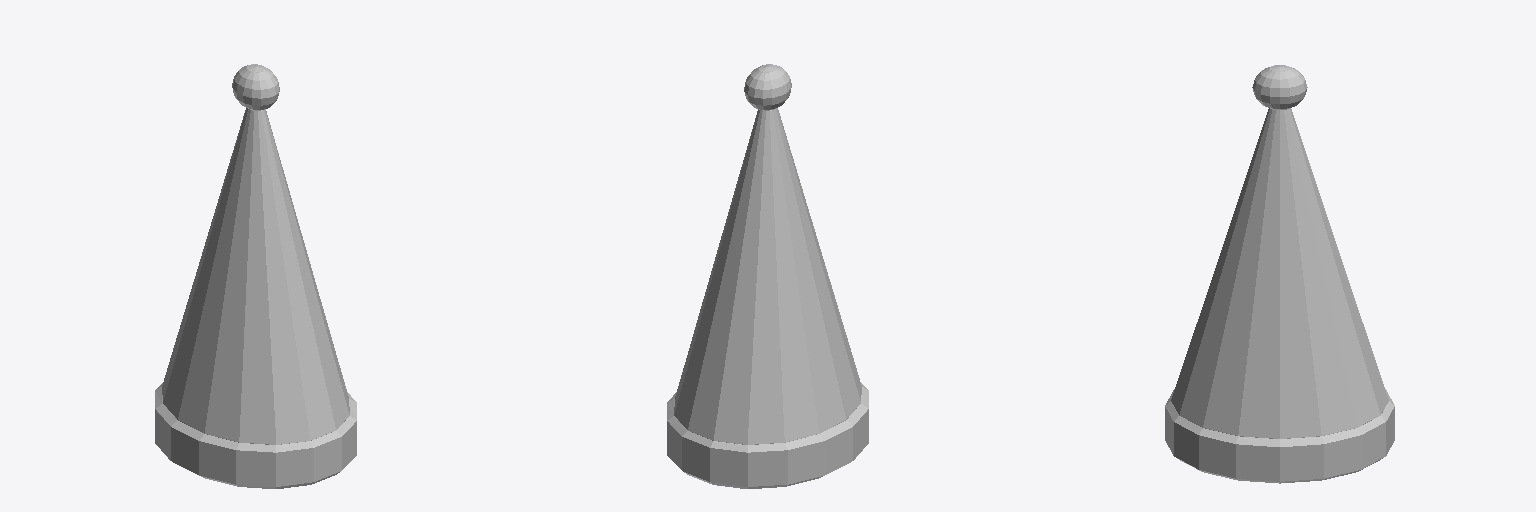
File: Christmashat.obj
3 views of the same model, side by side, from view 1: azimuth 30°, elevation 25°; view 2: azimuth 150°, elevation 25°; view 3: azimuth 270°, elevation 25° (orthographic).
Visible parts, largest first — view 1: Cylinder; view 2: Cylinder; view 3: Cylinder.
Part boxes in pixels (x1,y1,x2,y2): Cylinder: (155, 64, 356, 488); Cylinder: (667, 64, 868, 488); Cylinder: (1165, 65, 1394, 483).
Size of the model in its own units: 18.44 by 39.06 by 21.53.